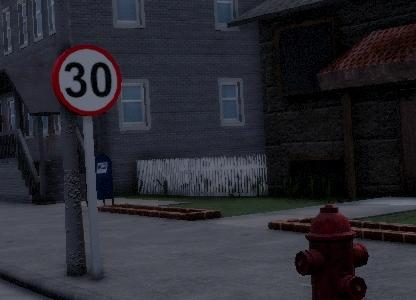Speed_30: (51, 41, 131, 118)
